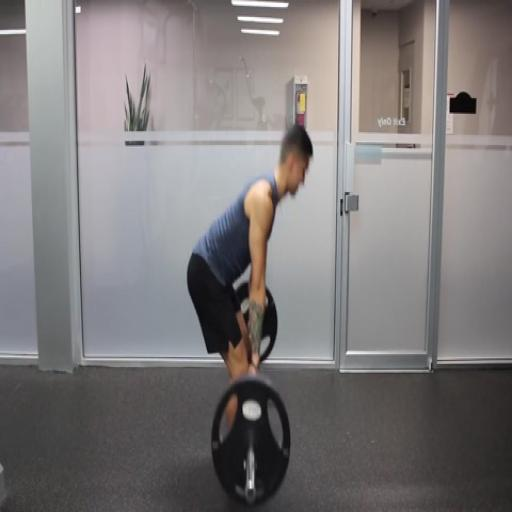exercise: (184, 121, 316, 435)
